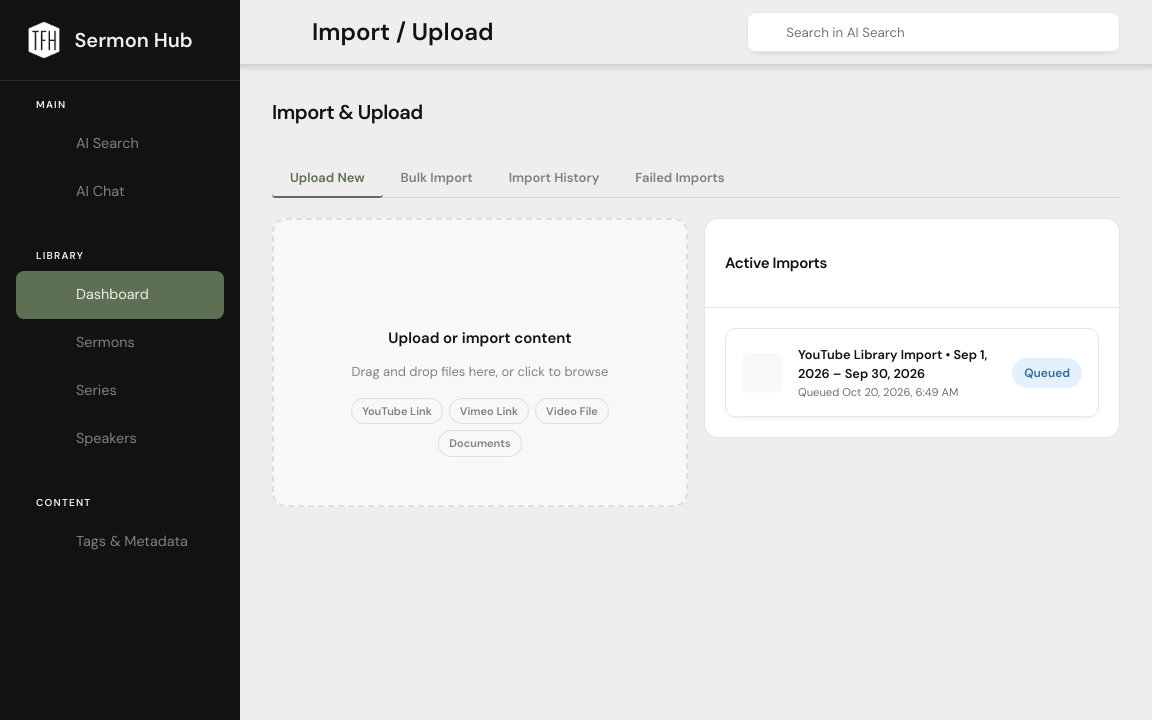
it: offers status recovery on Bulk Import after active-run polling fails
Expected: the heading "YouTube Library Import • Sep 1, 2026 – Sep 30, 2026" is shown, [798, 345, 996, 384]
Click the button "Bulk Import" at (437, 179), box [383, 159, 491, 198]
Wait 20000 ms
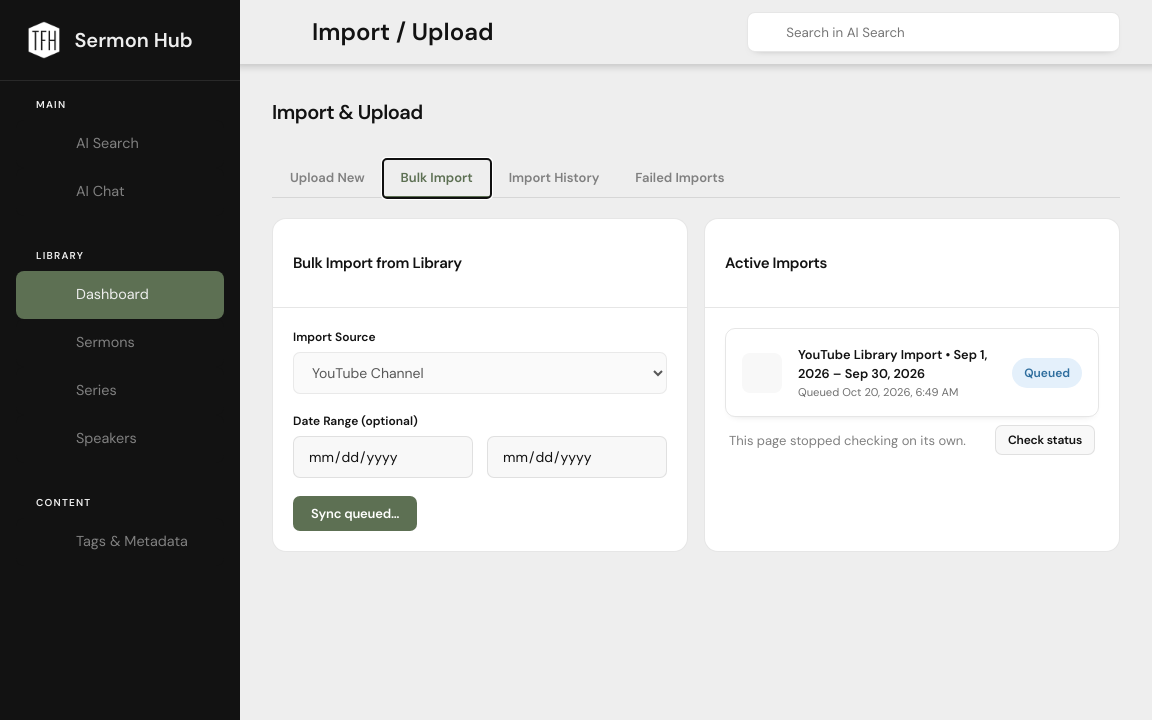
Expected: the text "Queued" is shown, [1012, 358, 1082, 388]
Now the button "Sync queued…" is disabled, box [293, 496, 417, 531]
Click the button "Check status" at (1045, 440), box [995, 425, 1095, 455]
Wait 5000 ms
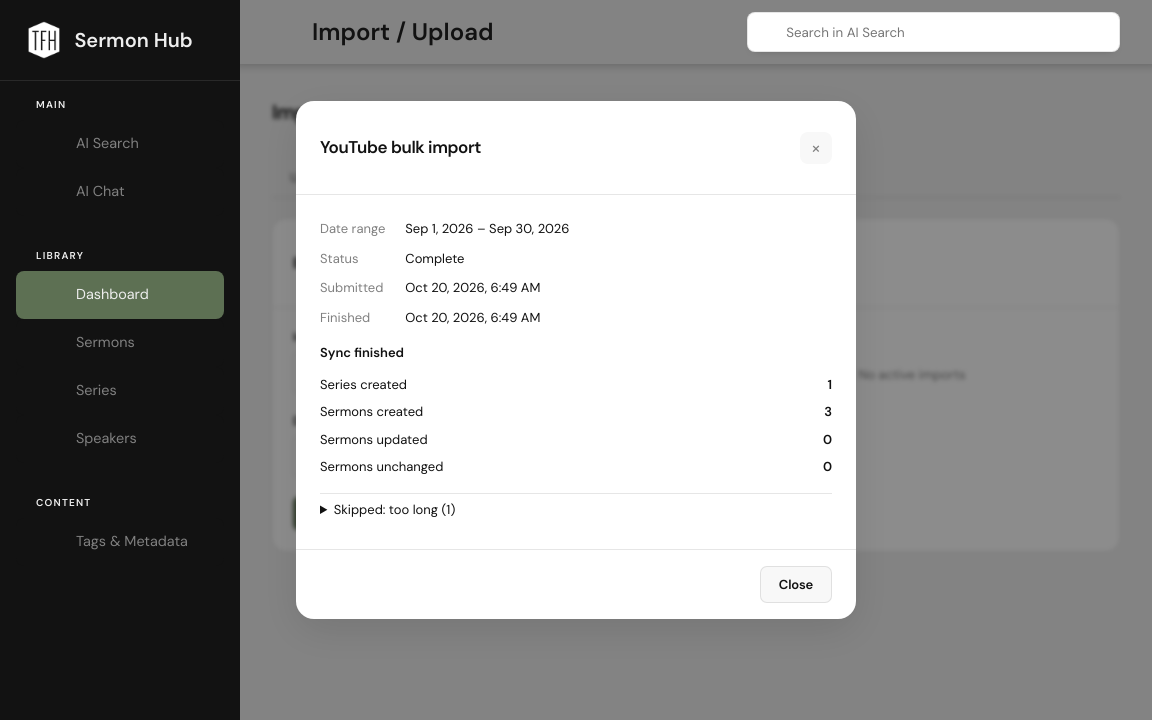
Now the button "Check status" is gone
Now the dialog shows "Sermons created", box [320, 403, 423, 420]
Now the button "queued" is gone
